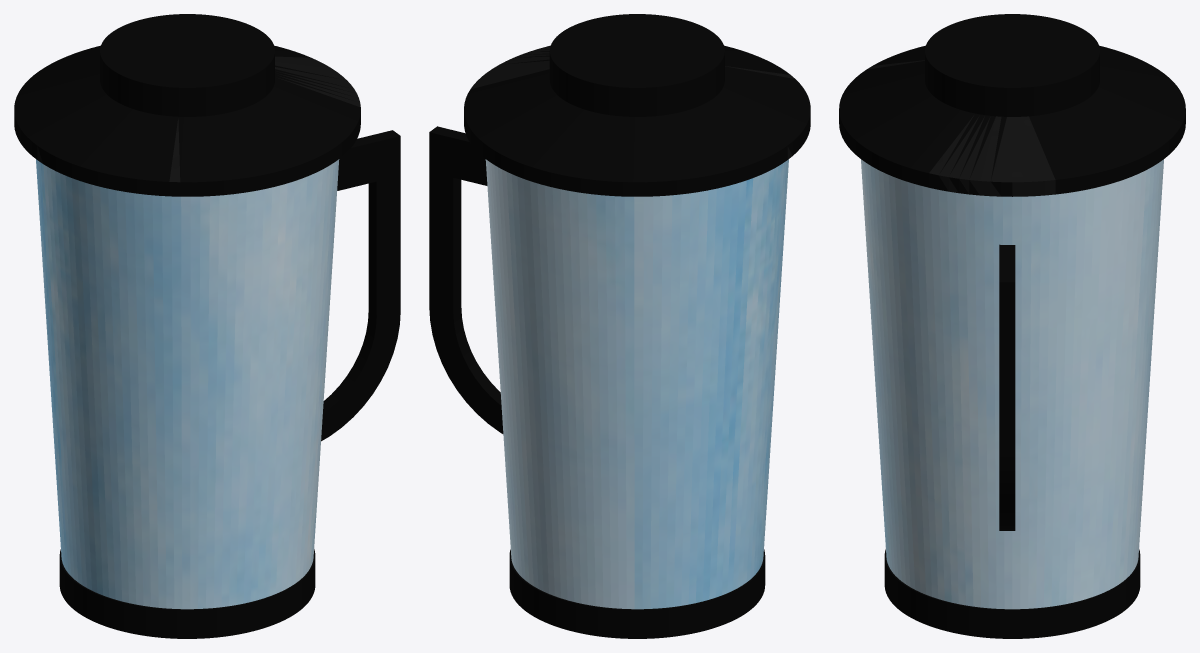
File: licuadoraArriba.obj
3 renders of one model, left to right at view 1: azimuth 30°, elevation 25°; view 2: azimuth 150°, elevation 25°; view 3: azimuth 270°, elevation 25°, orthographic.
Parts seen in each view (by area): view 1: licuadoraArriba:Mesh; view 2: licuadoraArriba:Mesh; view 3: licuadoraArriba:Mesh.
Boxes of the visible parts, <box> form: licuadoraArriba:Mesh: <box>14,14,400,638</box>; licuadoraArriba:Mesh: <box>429,14,810,638</box>; licuadoraArriba:Mesh: <box>839,14,1185,638</box>.
Size of the model in its own units: 0.2815 by 0.4025 by 0.2369.
